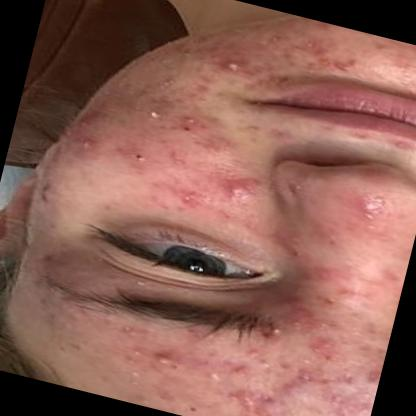Acne: (350, 190, 400, 234), (216, 170, 266, 213), (115, 138, 170, 174), (162, 100, 210, 141), (212, 42, 256, 84), (147, 342, 190, 376), (254, 314, 298, 346), (137, 99, 172, 130)
